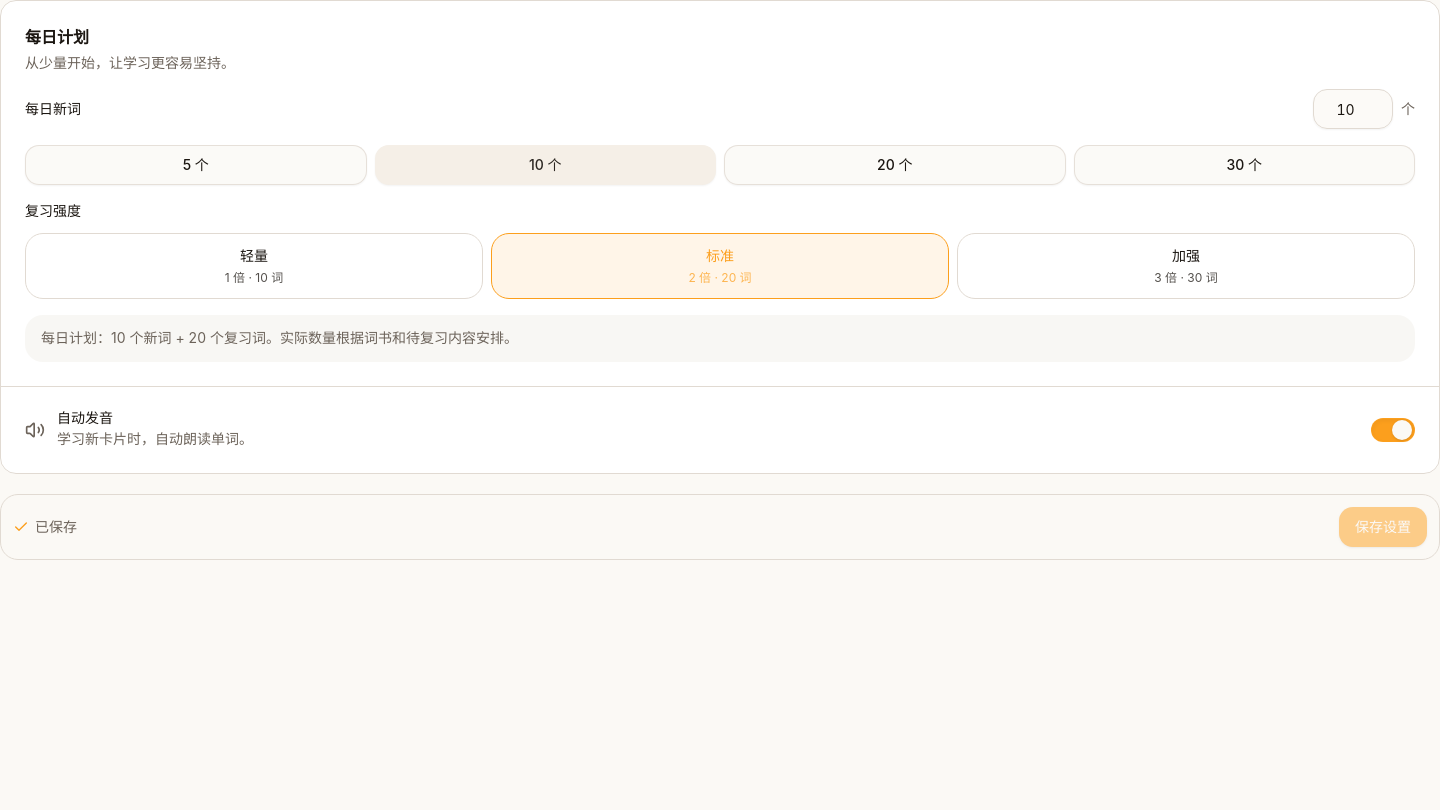
Scenario: SettingsForm › keeps the active group when only pronunciation is changed
Click the switch named "自动发音" at (1393, 430), box [1371, 418, 1415, 442]
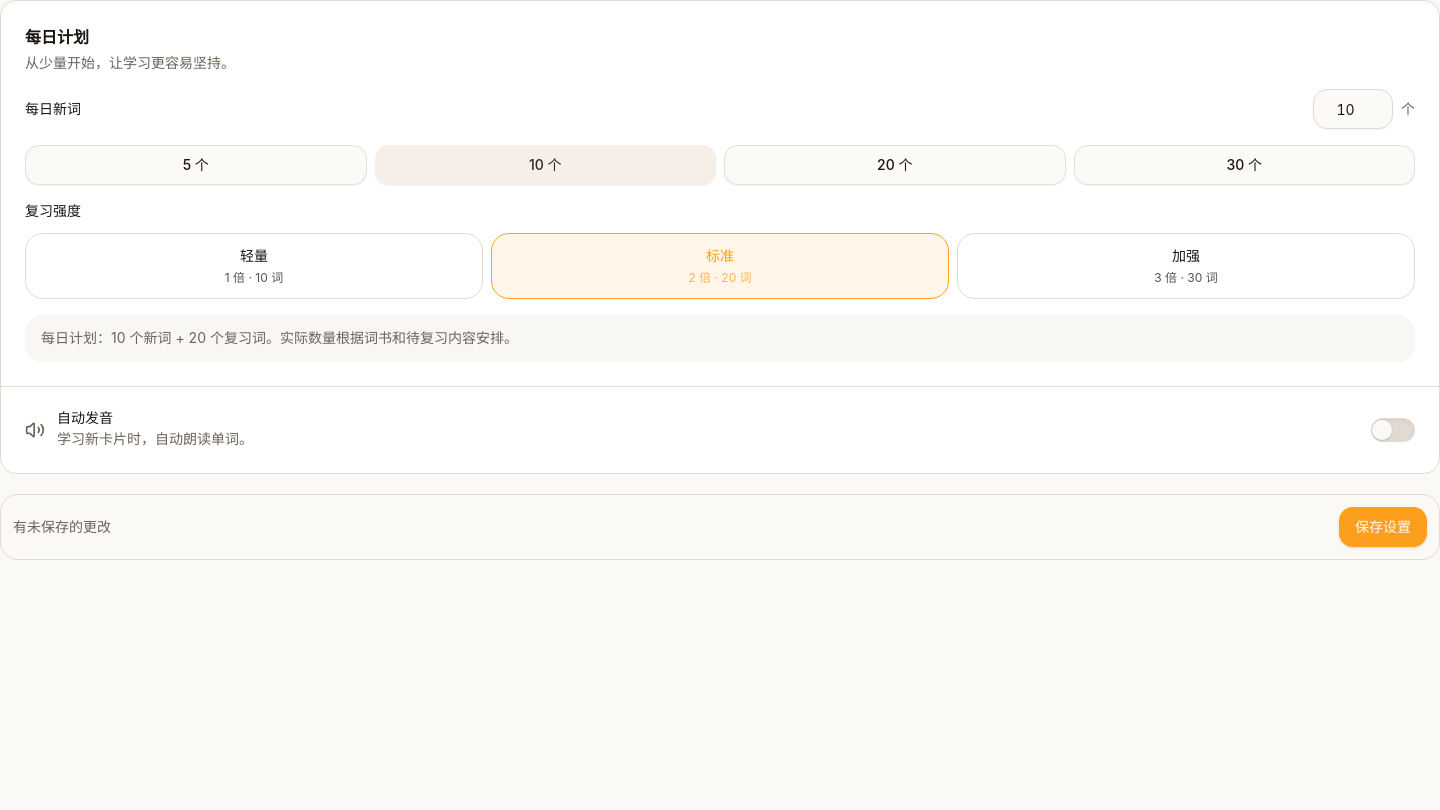
Click the button "保存设置" at (1383, 527), box [1339, 507, 1427, 547]
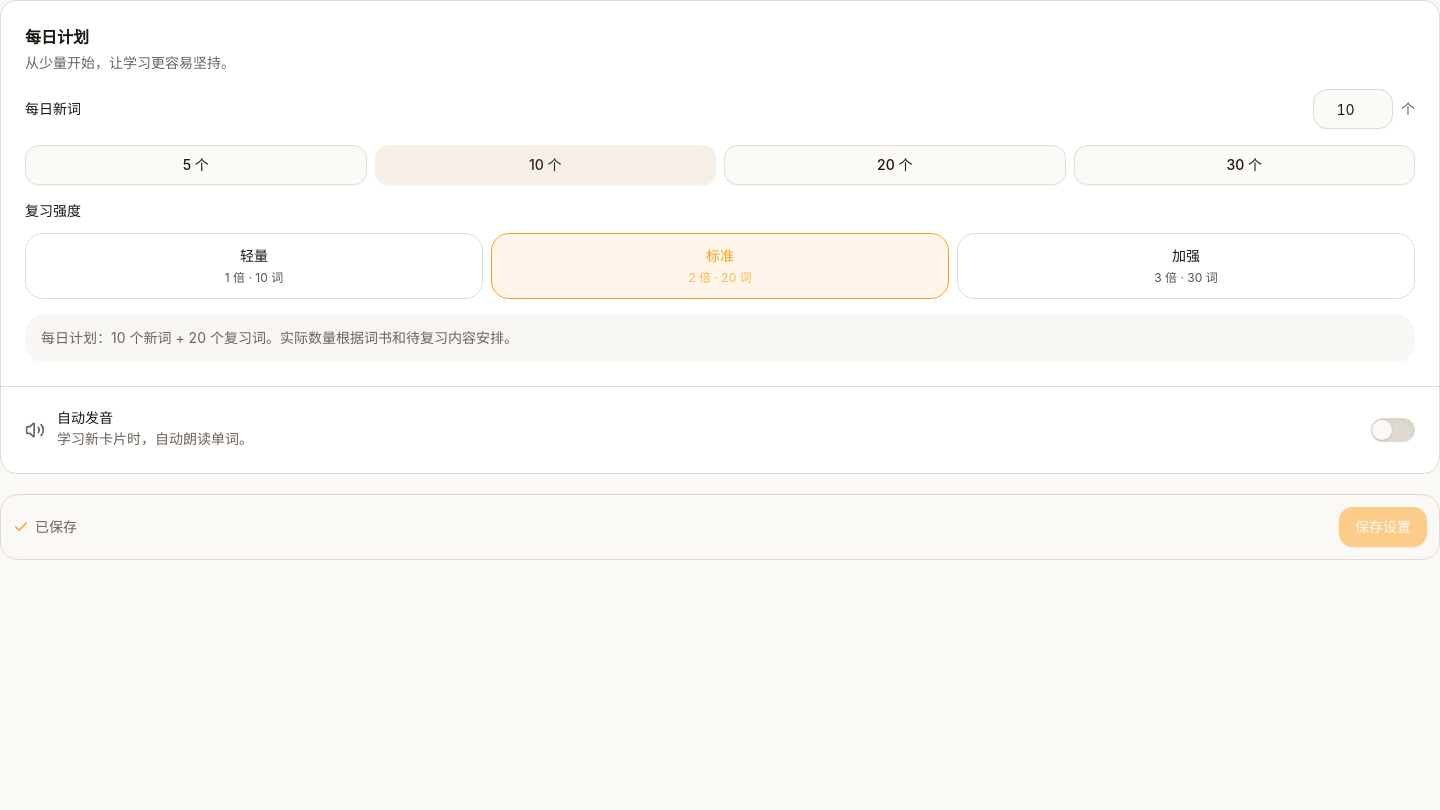
Expected: the button "保存设置" is disabled, [1339, 507, 1427, 547]
